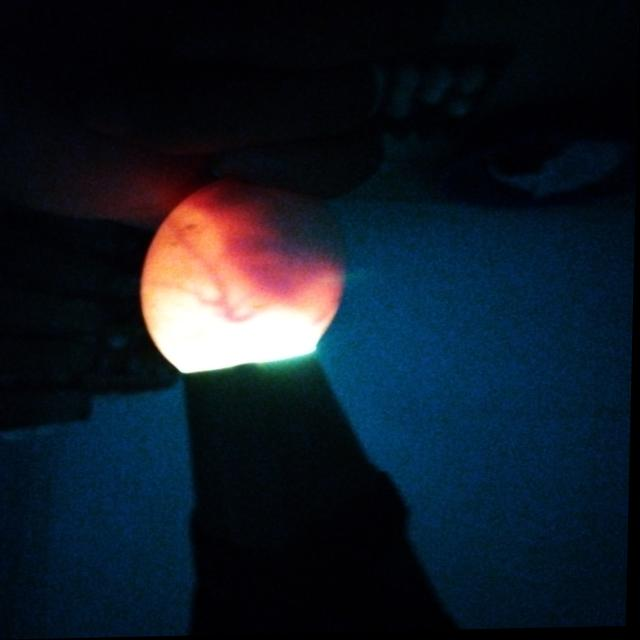Embriao: (192, 182, 343, 321)
